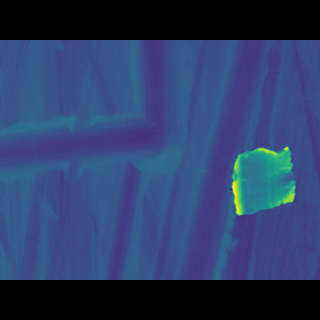Loch: (100, 69, 177, 250), (0, 123, 177, 178), (223, 147, 299, 210)
